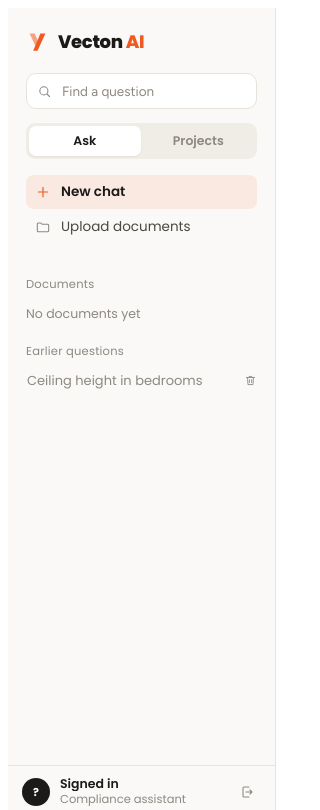
it: Sidebar › shows "Nothing matches your search" when the filter matches no chat
The width and height of the screenshot is (320, 810).
In the field with placeholder "Find a question": (153, 91) top-left (60, 82), bottom-right (246, 100), type "nonexistent"
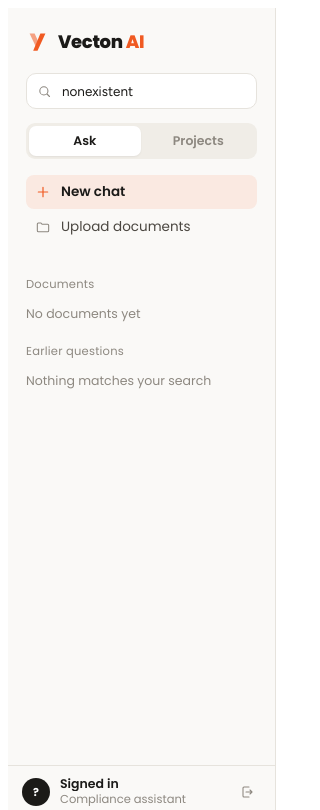
Expected: the text "Nothing matches your search" is shown, top-left (26, 372), bottom-right (211, 389)
